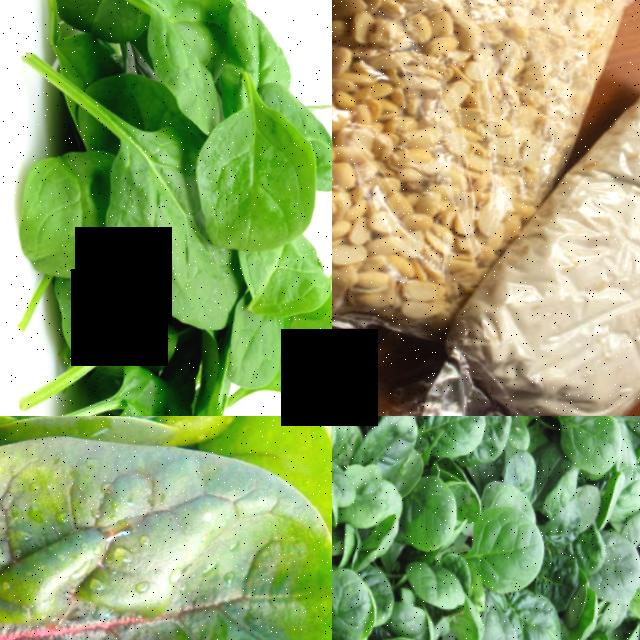spinach: (0, 416, 332, 640), (94, 98, 239, 318), (184, 72, 332, 254), (8, 124, 152, 299), (473, 486, 568, 591), (409, 459, 478, 548), (556, 416, 640, 466), (420, 416, 504, 460), (602, 510, 640, 593)
